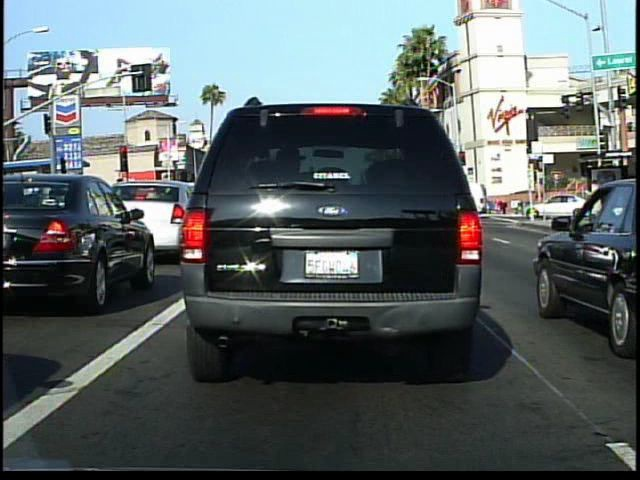person: (582, 173, 607, 230)
